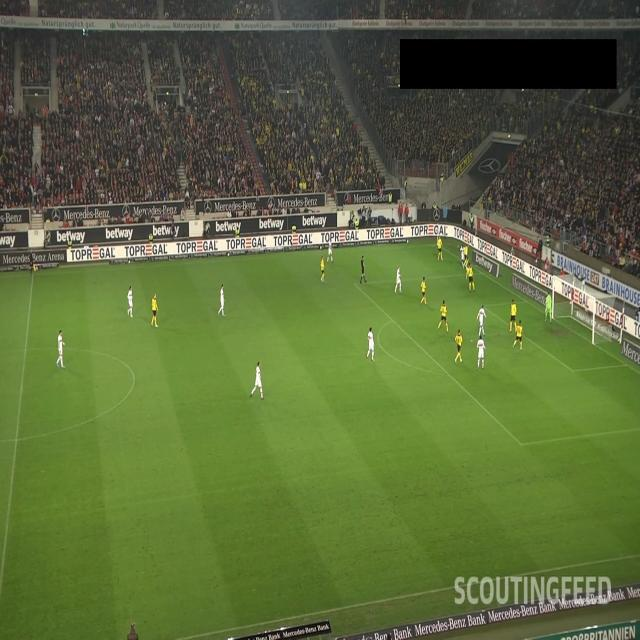ball: (466, 266, 468, 272)
